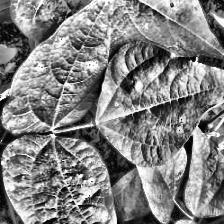Bean Rust: (0, 0, 120, 139), (92, 44, 224, 158), (17, 0, 224, 60), (2, 132, 136, 224)
